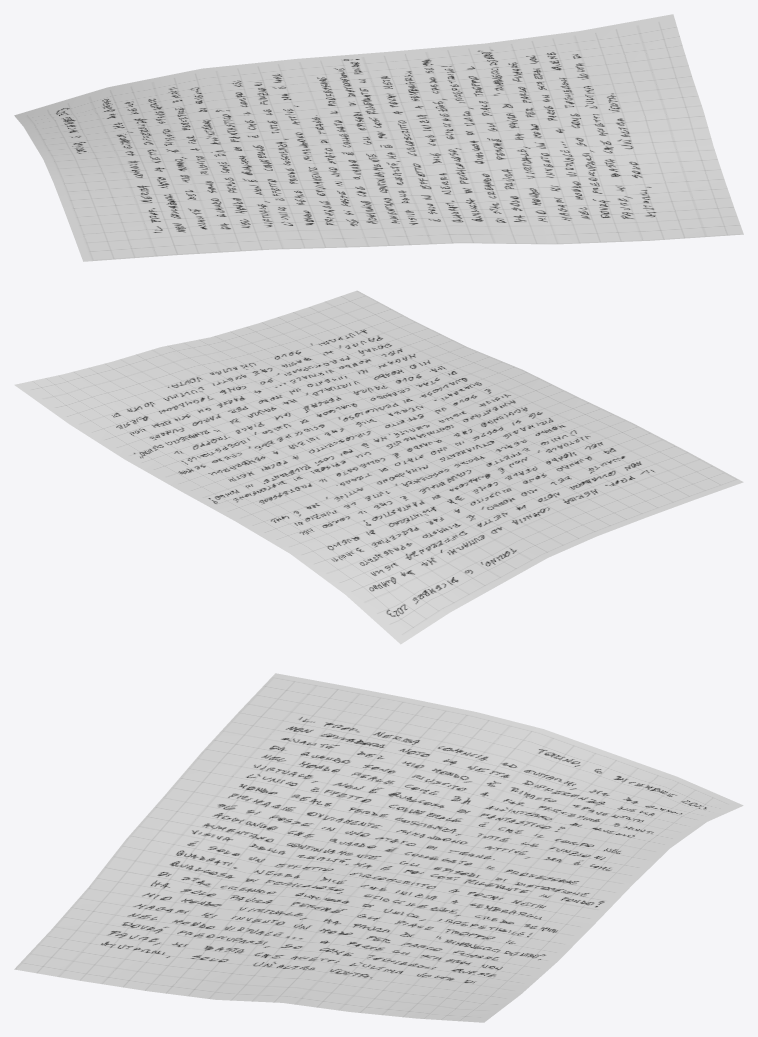
File: Pagina4.fbx
3 views of the same model, one above another, from view 1: azimuth 30°, elevation 25°; view 2: azimuth 150°, elevation 25°; view 3: azimuth 270°, elevation 25° (orthographic). The views are drawn at different scales.
Parts seen in each view (by area): view 1: foglio.001; view 2: foglio.001; view 3: foglio.001.
Part boxes in pixels (x1,y1,x2,y2): foglio.001: (14, 14, 743, 261); foglio.001: (14, 290, 743, 644); foglio.001: (14, 673, 743, 1022).
Bounding box in the file's own units: 80.05 × 6.58 × 68.86.
